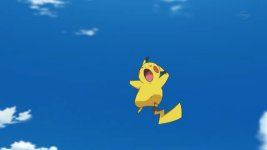pikachu: (123, 52, 187, 125)
